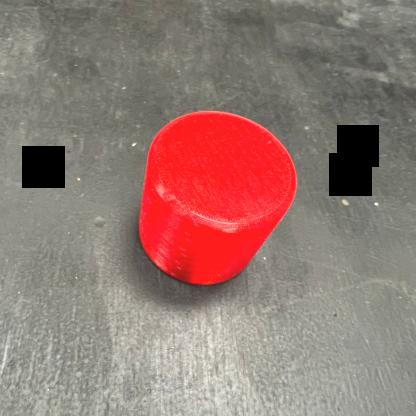red cylinder: (136, 106, 300, 288)
